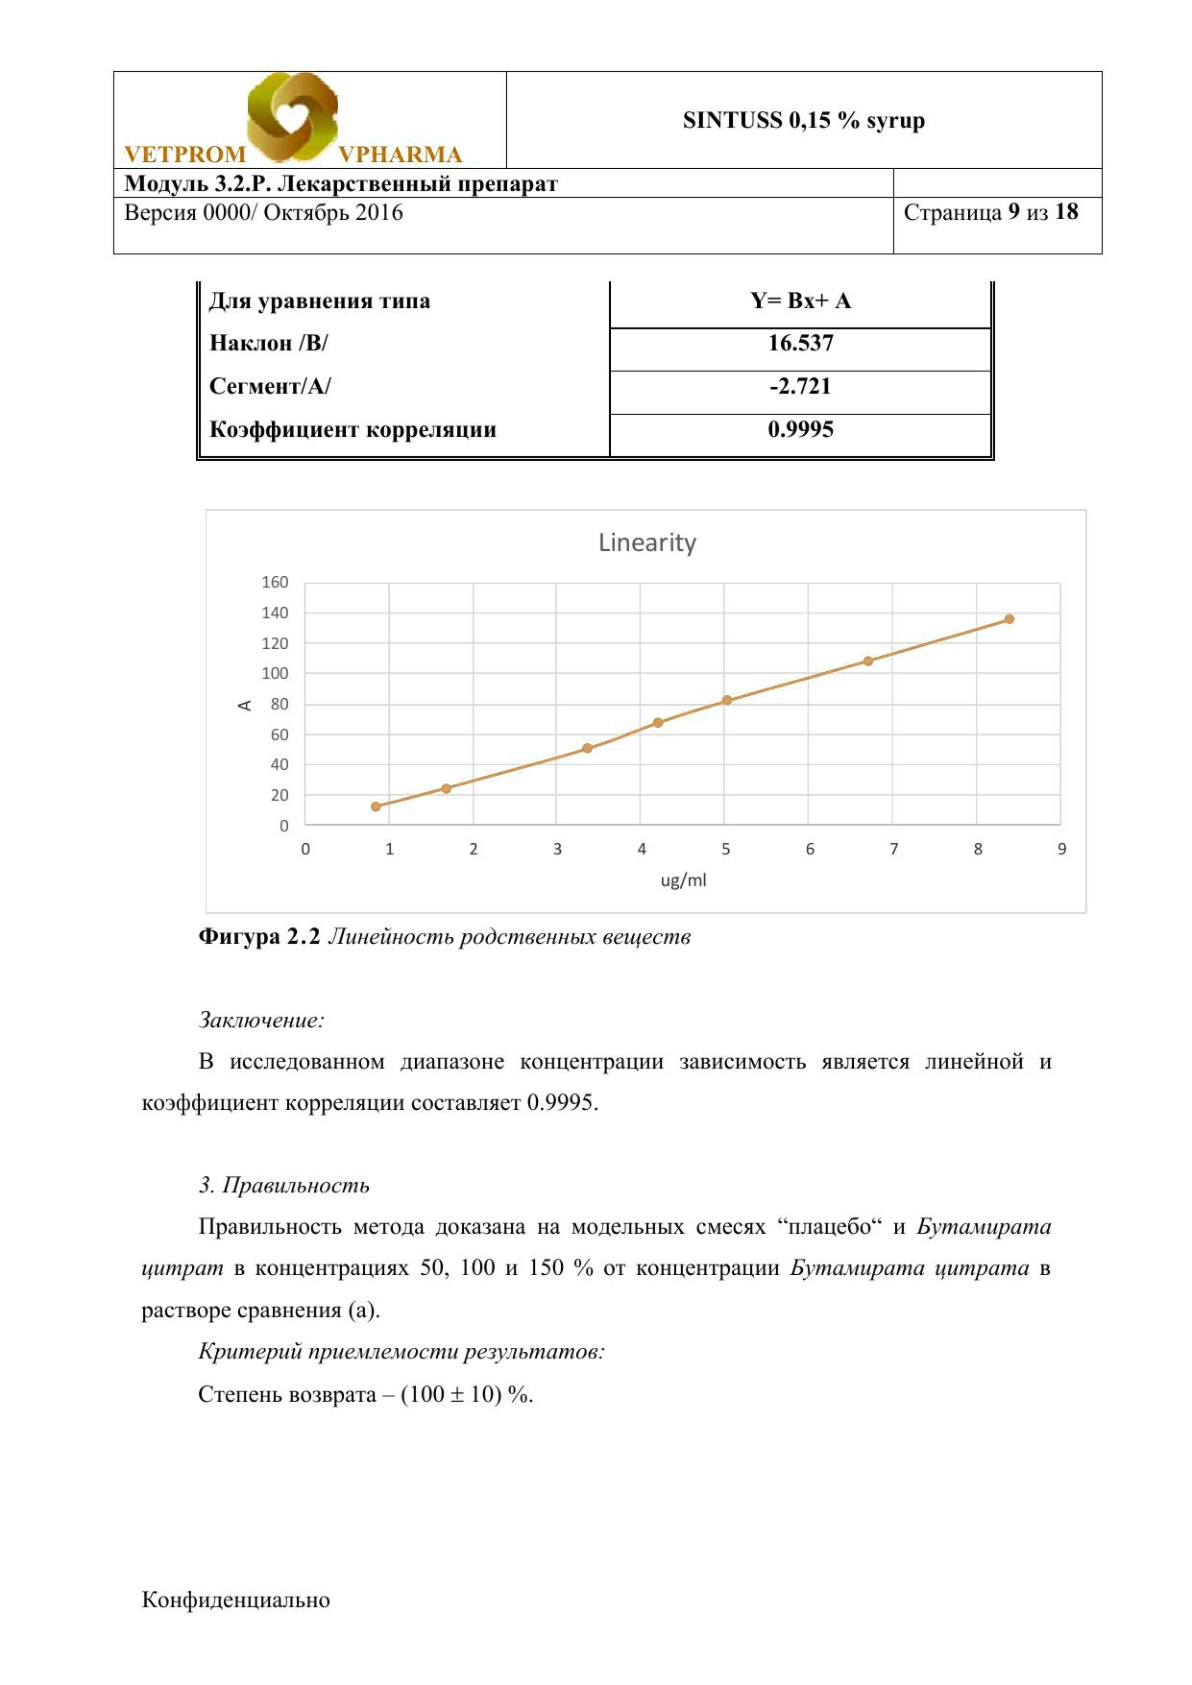merged_cells: (111, 70, 1103, 255)
partial_lined_merged_cells: (195, 279, 996, 461)
